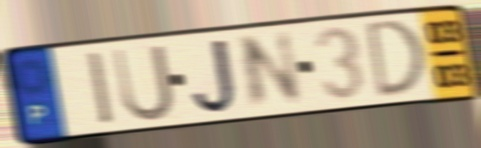3: (313, 23, 369, 105)
D: (364, 16, 428, 102)
I: (84, 48, 118, 129)
J: (189, 35, 239, 117)
N: (237, 27, 306, 115)
U: (109, 41, 177, 125)
